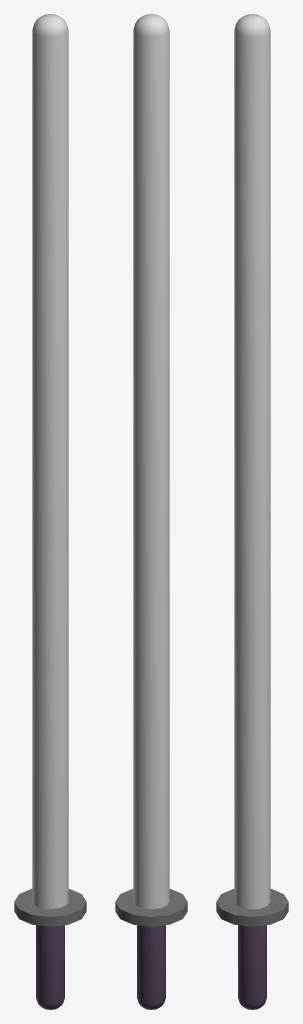
Rendered from Sword.fbx.
The picture shows the model from 3 angles, left to right: view 1: azimuth 30°, elevation 25°; view 2: azimuth 150°, elevation 25°; view 3: azimuth 330°, elevation 25°; orthographic projection.
Parts seen in each view (by area): view 1: Sword; view 2: Sword; view 3: Sword.
Part boxes in pixels (x1,y1,x2,y2): Sword: [14, 14, 86, 1009]; Sword: [115, 14, 187, 1009]; Sword: [216, 14, 288, 1009].
Bounding box in the file's own units: 20 × 302 × 20.
